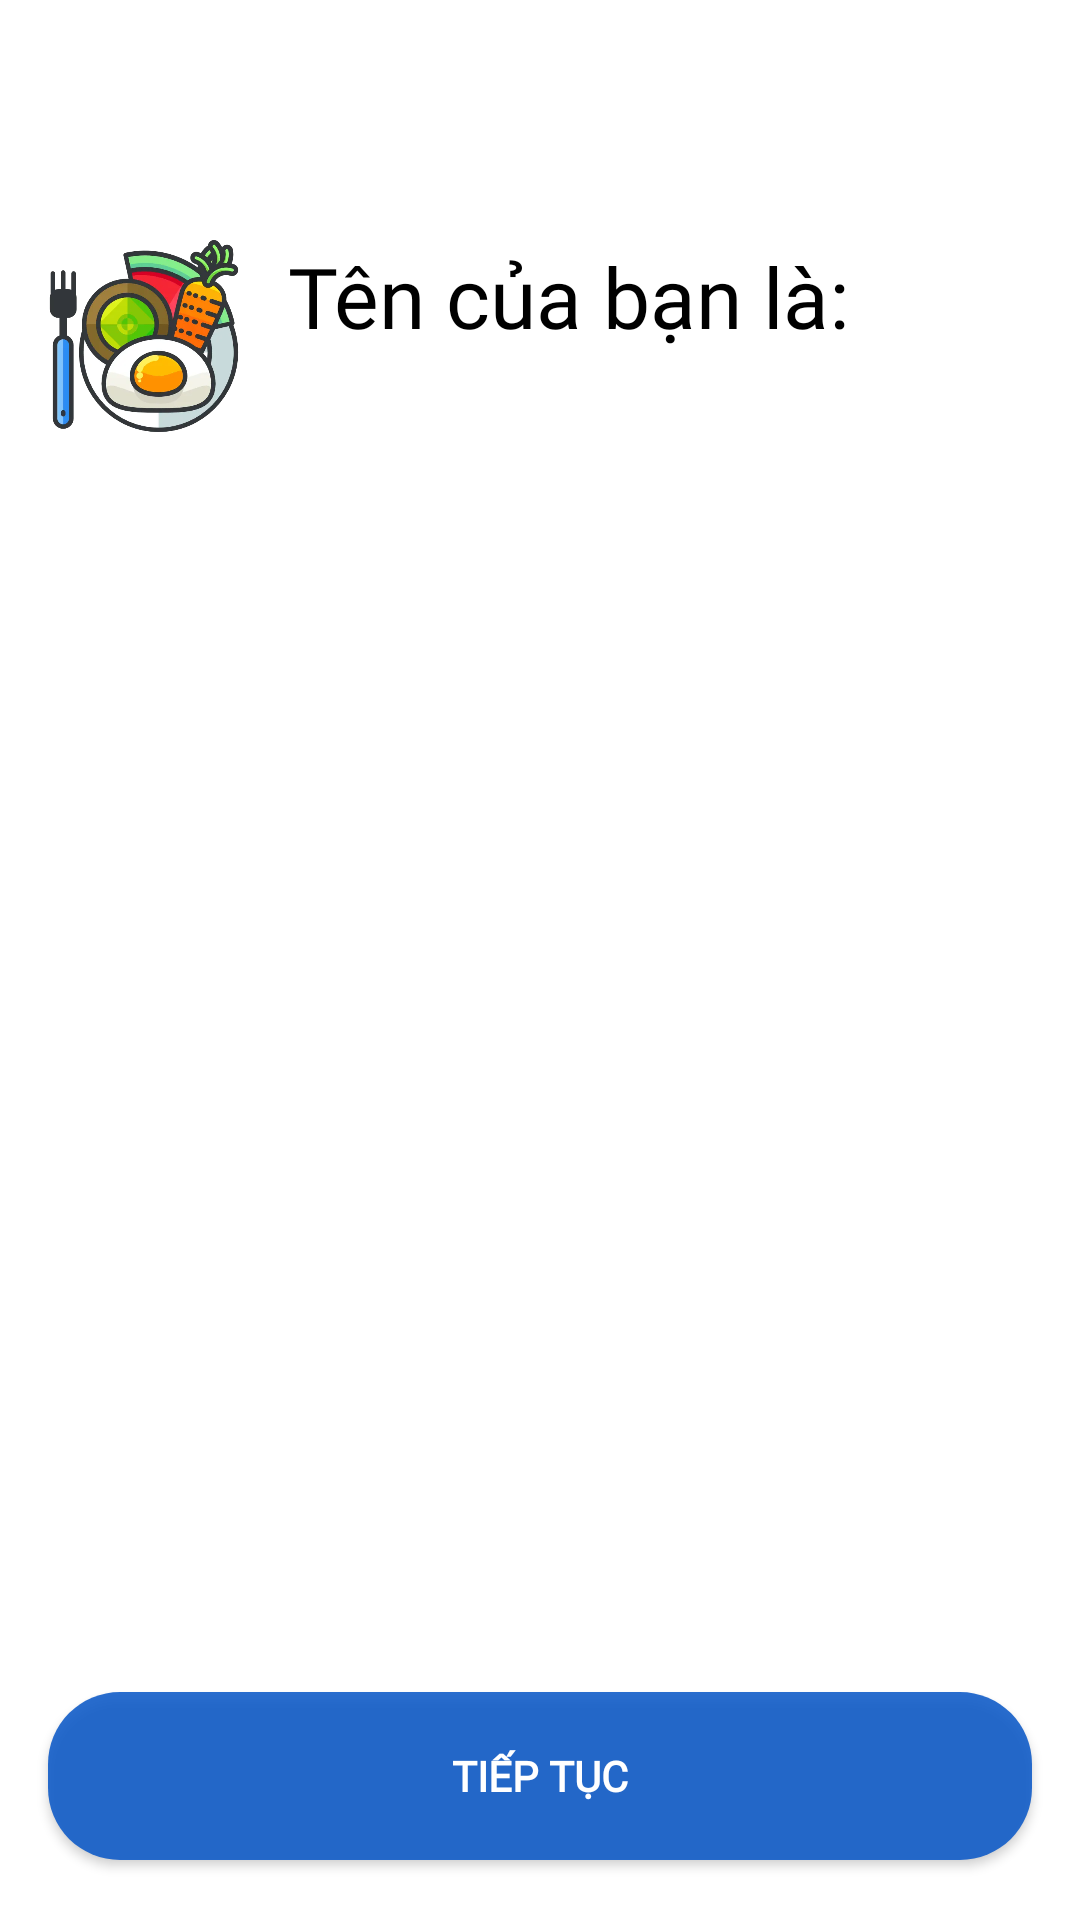

Locate icon controls on the screen. Image size 1080 × 1920, boxes as (x1, y1, x2, y2).
nutrition: (50, 240, 238, 432)
